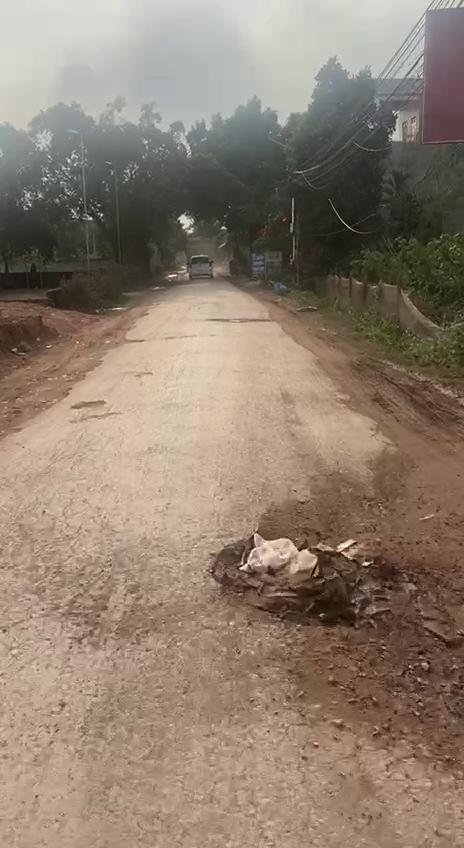pothole: (208, 526, 413, 636)
